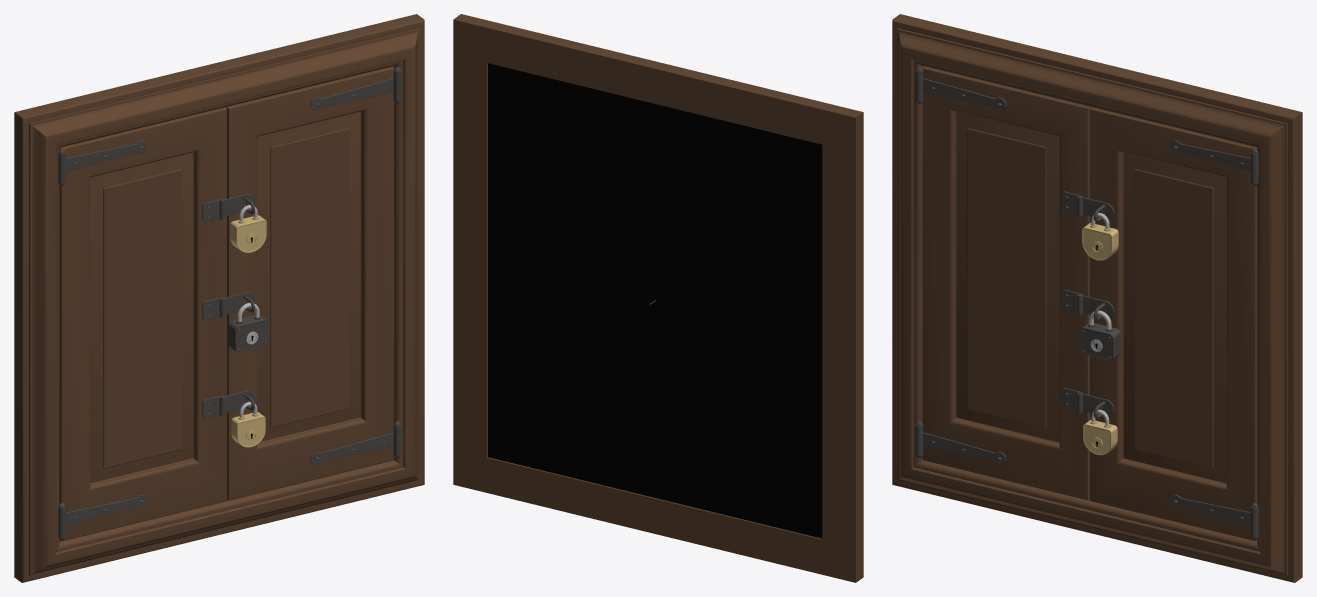
The model's file is vera_safe.glb.
The picture shows the model from 3 angles, left to right: view 1: azimuth 30°, elevation 25°; view 2: azimuth 150°, elevation 25°; view 3: azimuth 330°, elevation 25°; orthographic projection.
Visible parts, largest first — view 1: DoorL, Casing, DoorR, Knuckles, Lock2Body, Lock1Body, Lock3Body; view 2: Void, Casing; view 3: DoorL, Casing, DoorR, Knuckles, Lock2Body, Lock1Body, Lock3Body.
Boxes of the visible parts, x1=… form: DoorL: x1=59, y1=107, x2=226, y2=541; Casing: x1=14, y1=14, x2=424, y2=582; DoorR: x1=226, y1=66, x2=394, y2=500; Knuckles: x1=58, y1=67, x2=401, y2=539; Lock2Body: x1=228, y1=315, x2=268, y2=353; Lock1Body: x1=230, y1=215, x2=266, y2=252; Lock3Body: x1=231, y1=412, x2=265, y2=447; Void: x1=488, y1=63, x2=822, y2=538; Casing: x1=453, y1=14, x2=863, y2=582; DoorL: x1=922, y1=66, x2=1090, y2=500; Casing: x1=892, y1=14, x2=1302, y2=582; DoorR: x1=1090, y1=107, x2=1257, y2=541; Knuckles: x1=915, y1=67, x2=1258, y2=539; Lock2Body: x1=1080, y1=323, x2=1120, y2=360; Lock1Body: x1=1082, y1=223, x2=1118, y2=260; Lock3Body: x1=1083, y1=420, x2=1117, y2=455.
Bounding box in the file's own units: 0.48 × 0.53 × 0.0566.
